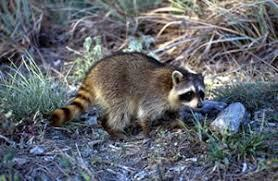raccoon: (37, 35, 217, 146)
